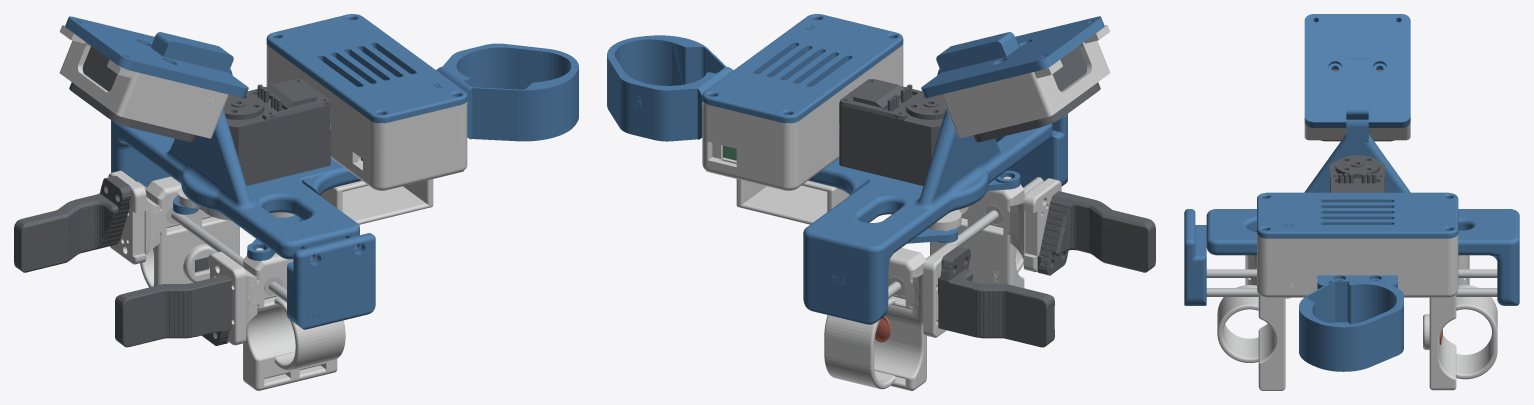
File: umi_right_robotiq-hand-e.glb
3 views of the same model, side by side, from view 1: azimuth 30°, elevation 25°; view 2: azimuth 150°, elevation 25°; view 3: azimuth 270°, elevation 25° (orthographic). The views are drawn at different scales.
Visible parts, largest first — view 1: main_support, electronics_lid, controller_support, electronics_box, thumb_link, servo_sts3215, index_link, main_support_cover_plate, camera_hood, tip_thumb, tip_index, hand_support_base (+4 smaller); view 2: main_support, electronics_lid, electronics_box, controller_support, index_link, servo_sts3215, tip_index, camera_hood, thumb_link, tip_thumb, hand_support_base, main_support_cover_plate (+5 smaller); view 3: main_support, electronics_box, electronics_lid, controller_support, index_link, thumb_link, main_support_cover_plate, servo_sts3215, camera_hood, rod_-8, rod_-28.
Part boxes in pixels (x1,y1,x2,y2): main_support: (65, 16, 361, 259); electronics_lid: (266, 14, 467, 123); controller_support: (436, 43, 578, 141); electronics_box: (266, 44, 467, 190); thumb_link: (208, 248, 345, 390); servo_sts3215: (223, 79, 330, 185); index_link: (108, 170, 239, 287); main_support_cover_plate: (287, 233, 375, 329); camera_hood: (59, 25, 228, 138); tip_thumb: (115, 275, 231, 347); tip_index: (14, 175, 132, 272); hand_support_base: (320, 170, 463, 224); main_support: (803, 16, 1104, 324); electronics_lid: (702, 14, 903, 123); electronics_box: (702, 44, 903, 190); controller_support: (607, 35, 733, 141); index_link: (824, 244, 958, 390); servo_sts3215: (839, 79, 946, 185); tip_index: (938, 246, 1054, 347); camera_hood: (941, 25, 1110, 138); thumb_link: (930, 176, 1061, 288); tip_thumb: (1037, 191, 1155, 275); hand_support_base: (706, 171, 849, 224); main_support_cover_plate: (1007, 114, 1067, 187); main_support: (1206, 14, 1519, 305); electronics_box: (1257, 234, 1458, 297); electronics_lid: (1257, 192, 1458, 238); controller_support: (1299, 275, 1403, 371); index_link: (1423, 255, 1497, 390); thumb_link: (1217, 255, 1290, 390); main_support_cover_plate: (1184, 209, 1206, 305); servo_sts3215: (1330, 155, 1385, 192); camera_hood: (1304, 122, 1410, 140); rod_-8: (1206, 288, 1497, 296); rod_-28: (1206, 269, 1497, 277).
Bounding box in the file's own units: 0.2246 × 0.1471 × 0.15.
